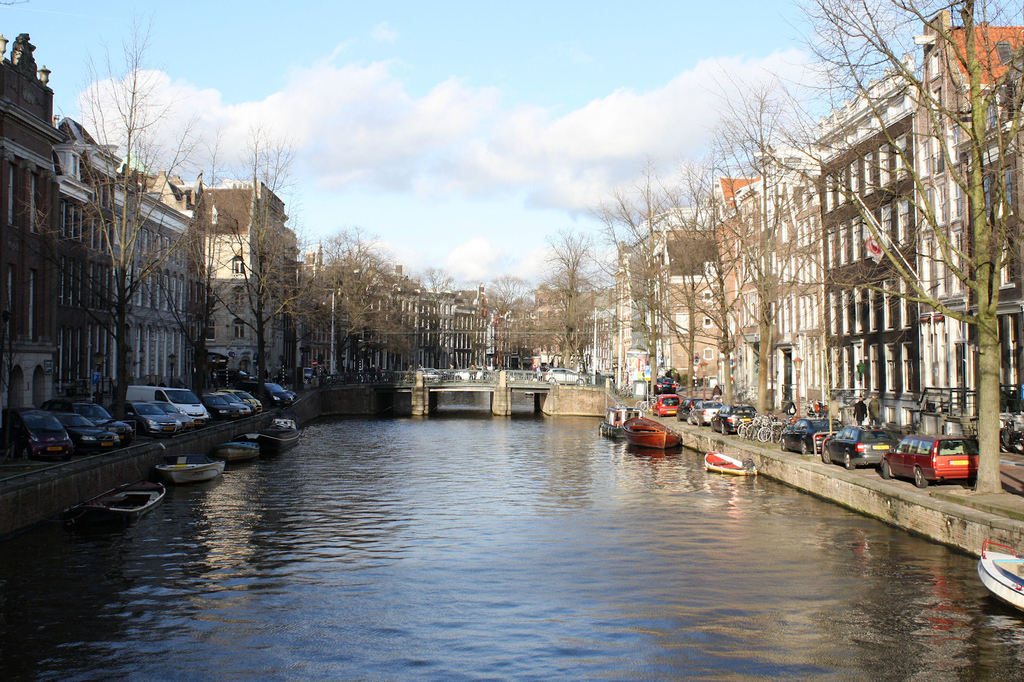Car: (871, 430, 986, 495), (3, 405, 83, 466), (821, 420, 906, 475), (773, 414, 848, 461), (115, 395, 186, 443), (69, 406, 119, 459), (702, 401, 769, 438), (239, 370, 298, 410), (96, 398, 135, 451), (189, 390, 231, 427), (679, 396, 724, 430), (233, 382, 264, 420), (652, 390, 688, 420), (223, 386, 250, 420), (656, 370, 679, 390)
